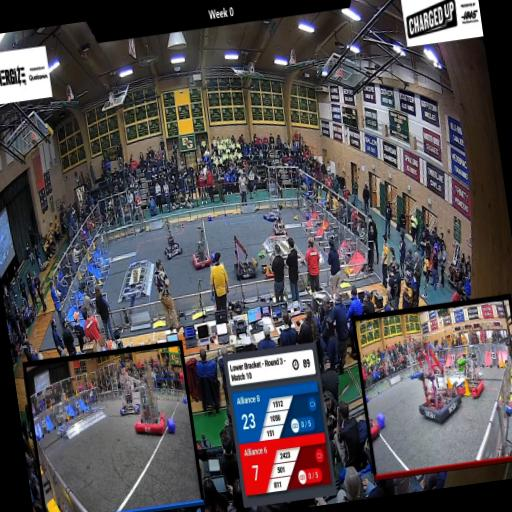robot: (228, 234, 258, 284), (185, 225, 212, 270), (159, 223, 185, 263), (256, 248, 281, 280), (258, 194, 280, 221), (270, 214, 290, 241)
